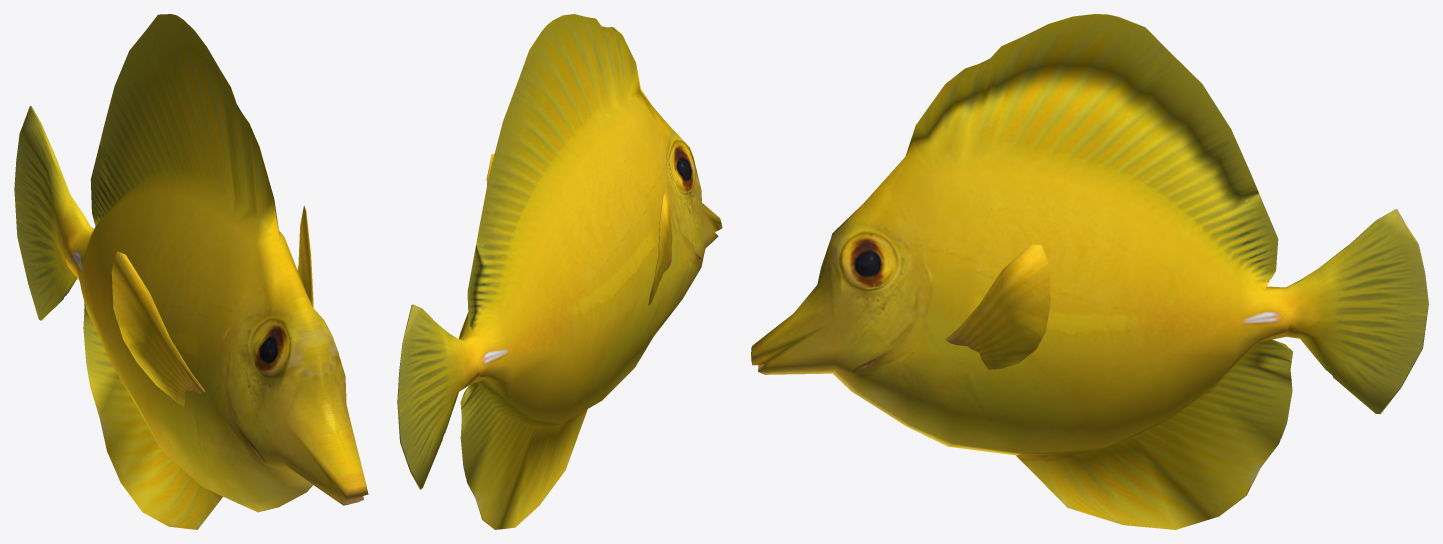
The model's file is YellowTank.dae.
3 renders of one model, left to right at view 1: azimuth 30°, elevation 25°; view 2: azimuth 150°, elevation 25°; view 3: azimuth 270°, elevation 25°, orthographic. The views are drawn at different scales.
Visible parts, largest first — view 1: Fish; view 2: Fish; view 3: Fish.
Boxes of the visible parts, left/top/right/bottom form: Fish: left=14, top=14, right=368, bottom=529; Fish: left=397, top=14, right=722, bottom=529; Fish: left=751, top=14, right=1428, bottom=529.
Size of the model in its own units: 2.94 by 9.24 by 7.76.
Materials: 1 (1 with a texture image).
